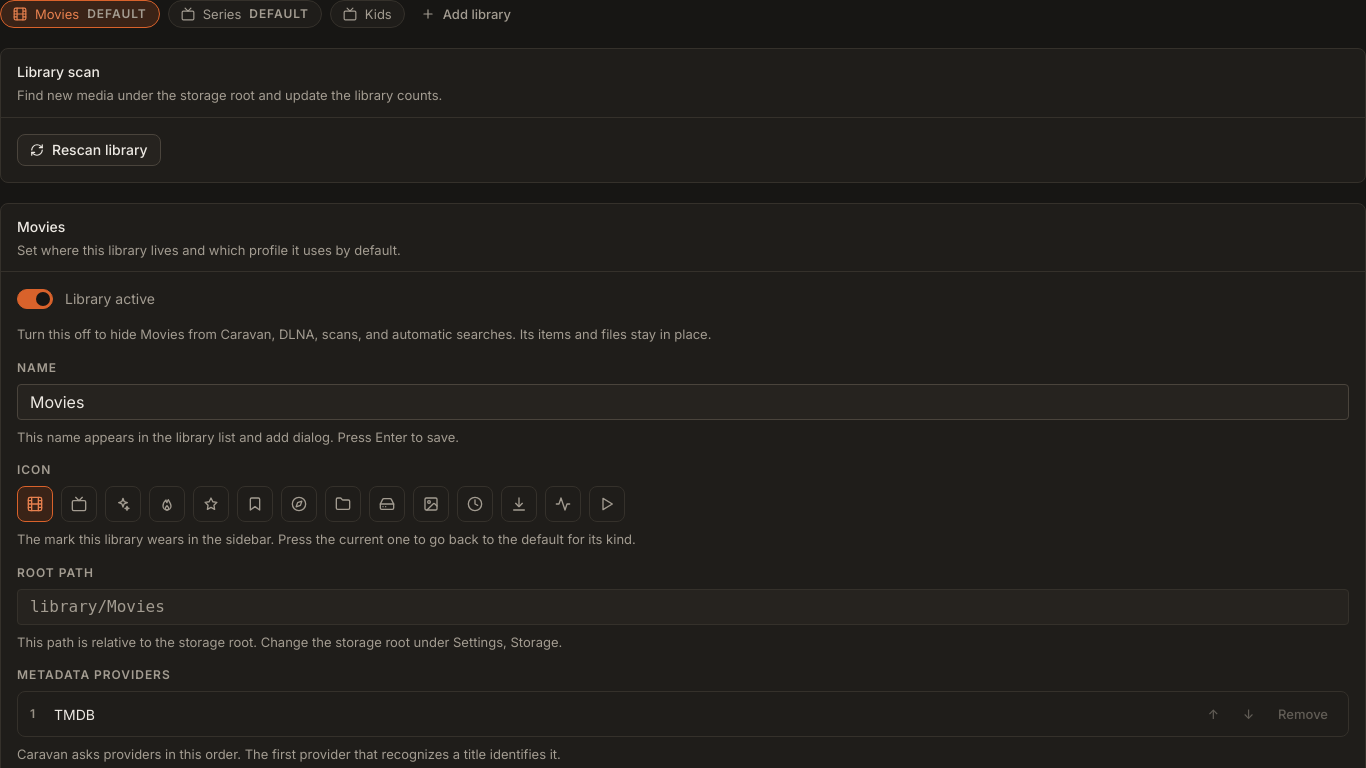
Scenario: LibrariesSettings — provider chain › renders the stored chain in its stored order, numbered
The width and height of the screenshot is (1366, 768).
Click the button "Kids" at (367, 14), box [330,0,405,28]
(page scrolled)
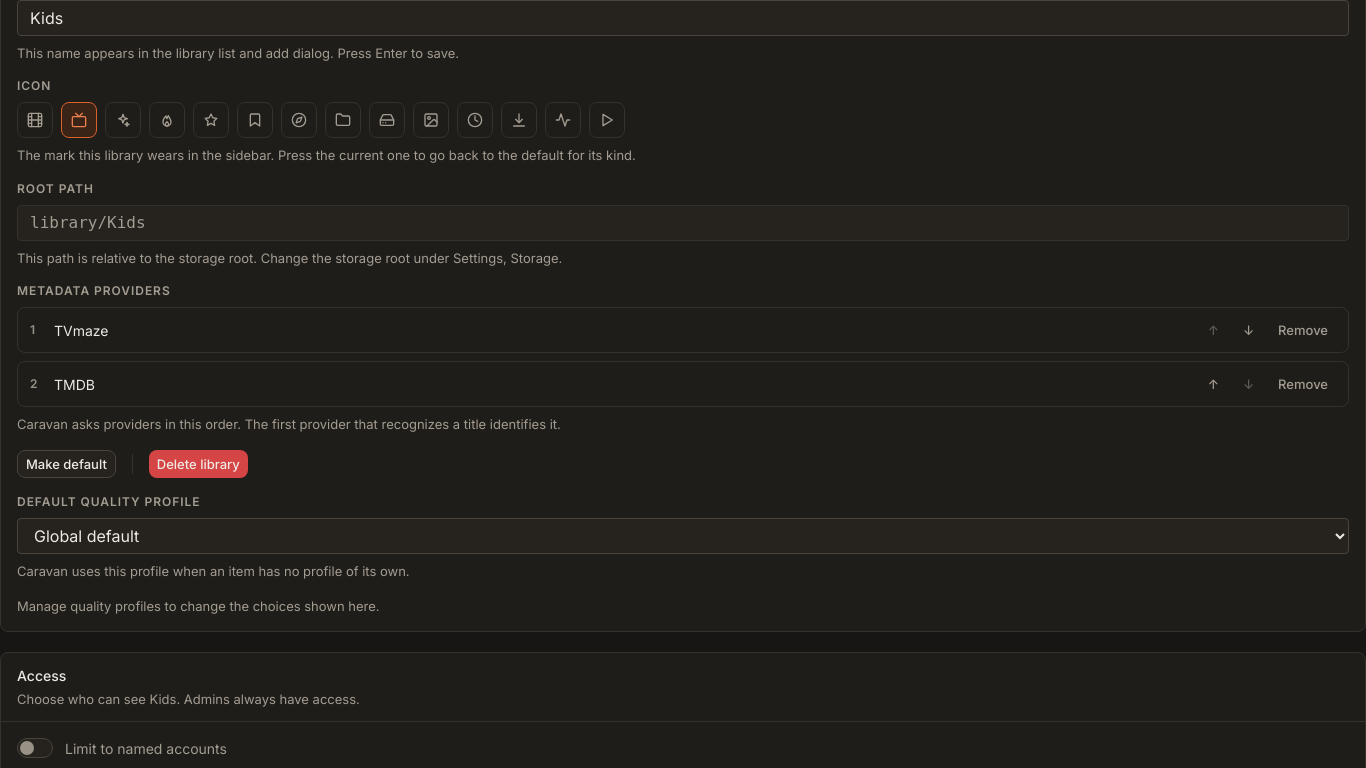
expect the list item "2 TMDB ↑ ↓ Remove" is shown: met, box [17,361,1349,407]
expect the list item "1 TVmaze ↑ ↓ Remove" is shown: met, box [17,307,1349,353]
